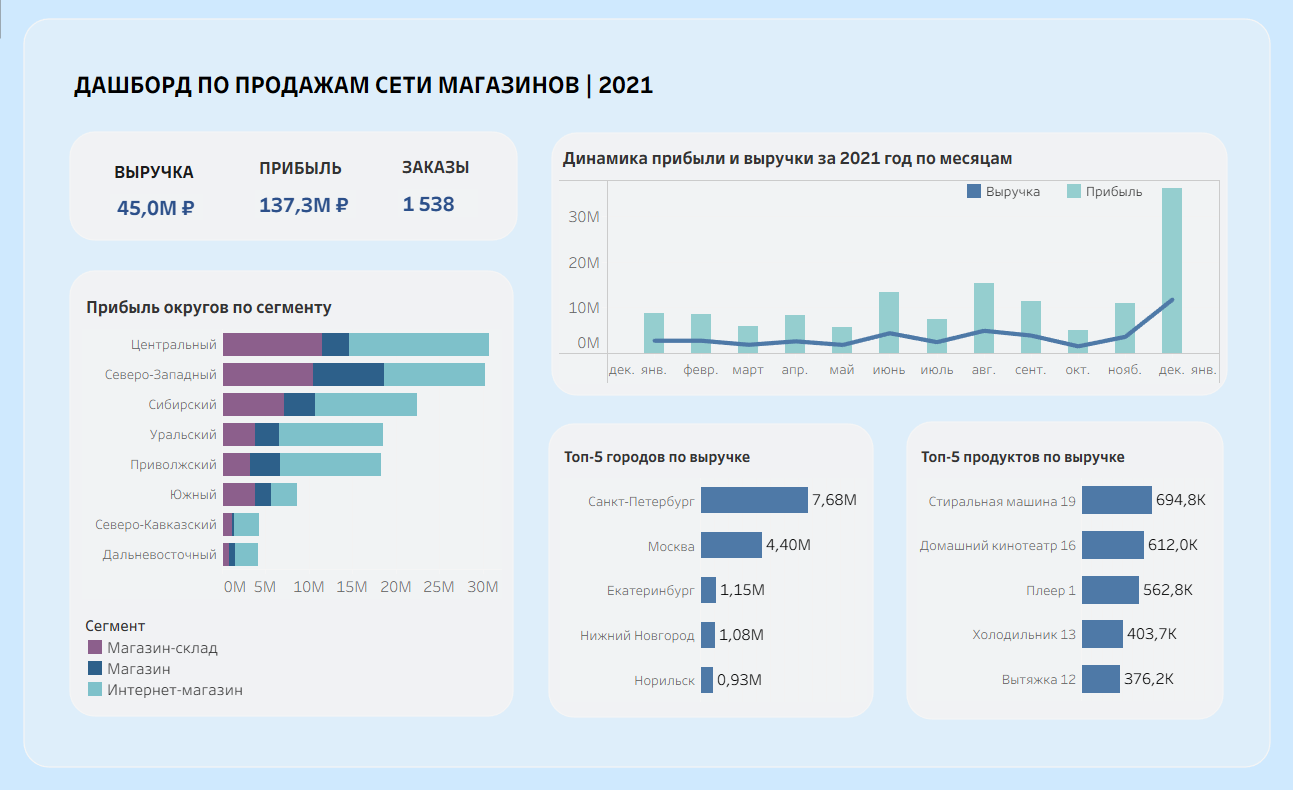

Layout of this report page (visuals, bound fields, positions):
{"tool":"tableau","page":{"name":"Dashboard","canvas":[1000,1000],"units":"permille","ordinal":0},"visuals":[{"type":"image","param":"Image/Дизайн без названия (1).png","box":[0,0,1000,1000]},{"type":"worksheet","title":"D-Back","mark":"Automatic","box":[0,0,1000,1000]},{"type":"text","box":[56.1,72.5,457.7,73.8]},{"type":"worksheet","title":"Прибыль","mark":"Automatic","box":[198.5,177.7,92.3,94.1]},{"type":"worksheet","title":"Заказы","mark":"Automatic","box":[310,179.4,79.2,97.6]},{"type":"worksheet","title":"Выручка","mark":"Automatic","box":[87.7,181.2,97.7,106.3]},{"type":"worksheet","title":"Прибыль и выручка","mark":"Automatic","rows":["Calculation_749004916096647173","Calculation_749004916096425988"],"cols":["Дата заказа"],"box":[431.5,182.5,508.5,302.5]},{"type":"legend","title":"Прибыль и выручка","param":"[federated.0i59hm71m1ojsk1bgu9950kednl1].[:Measure Names]","box":[743.1,208.7,207.7,57.7]},{"type":"worksheet","title":"Округа","mark":"Bar","rows":["Округ"],"cols":["Calculation_749004916096647173"],"box":[64.6,364.1,323.1,385]},{"type":"worksheet","title":"Города","mark":"Automatic","rows":["Город"],"cols":["Calculation_749004916096425988"],"box":[432.3,557.5,236.2,325]},{"type":"worksheet","title":"Продукты","mark":"Automatic","rows":["Наименование товара"],"cols":["Calculation_749004916096425988"],"box":[706.9,557.5,228.5,323.8]},{"type":"legend","title":"Округа","param":"[federated.0i59hm71m1ojsk1bgu9950kednl1].[none:Сегмент:nk]","box":[67.7,747.4,136.9,139.4]}]}

Visuals, with their boxes on the dashboard's canvas, which has no fixed pixel size, in thousandths of its width and height (x1, y1, x2, y2). These are canvas units, not pixel positions in the 1293x790 screenshot, which may show the page scaled, cropped or inside an application window:
image: {"left": 0, "top": 0, "right": 1000, "bottom": 1000}
"D-Back" worksheet: {"left": 0, "top": 0, "right": 1000, "bottom": 1000}
text: {"left": 56, "top": 72, "right": 514, "bottom": 146}
"Прибыль" worksheet: {"left": 198, "top": 178, "right": 291, "bottom": 272}
"Заказы" worksheet: {"left": 310, "top": 179, "right": 389, "bottom": 277}
"Выручка" worksheet: {"left": 88, "top": 181, "right": 185, "bottom": 288}
"Прибыль и выручка" worksheet: {"left": 432, "top": 182, "right": 940, "bottom": 485}
"Прибыль и выручка" legend: {"left": 743, "top": 209, "right": 951, "bottom": 266}
"Округа" worksheet (Bar marks): {"left": 65, "top": 364, "right": 388, "bottom": 749}
"Города" worksheet: {"left": 432, "top": 558, "right": 668, "bottom": 882}
"Продукты" worksheet: {"left": 707, "top": 558, "right": 935, "bottom": 881}
"Округа" legend: {"left": 68, "top": 747, "right": 205, "bottom": 887}
